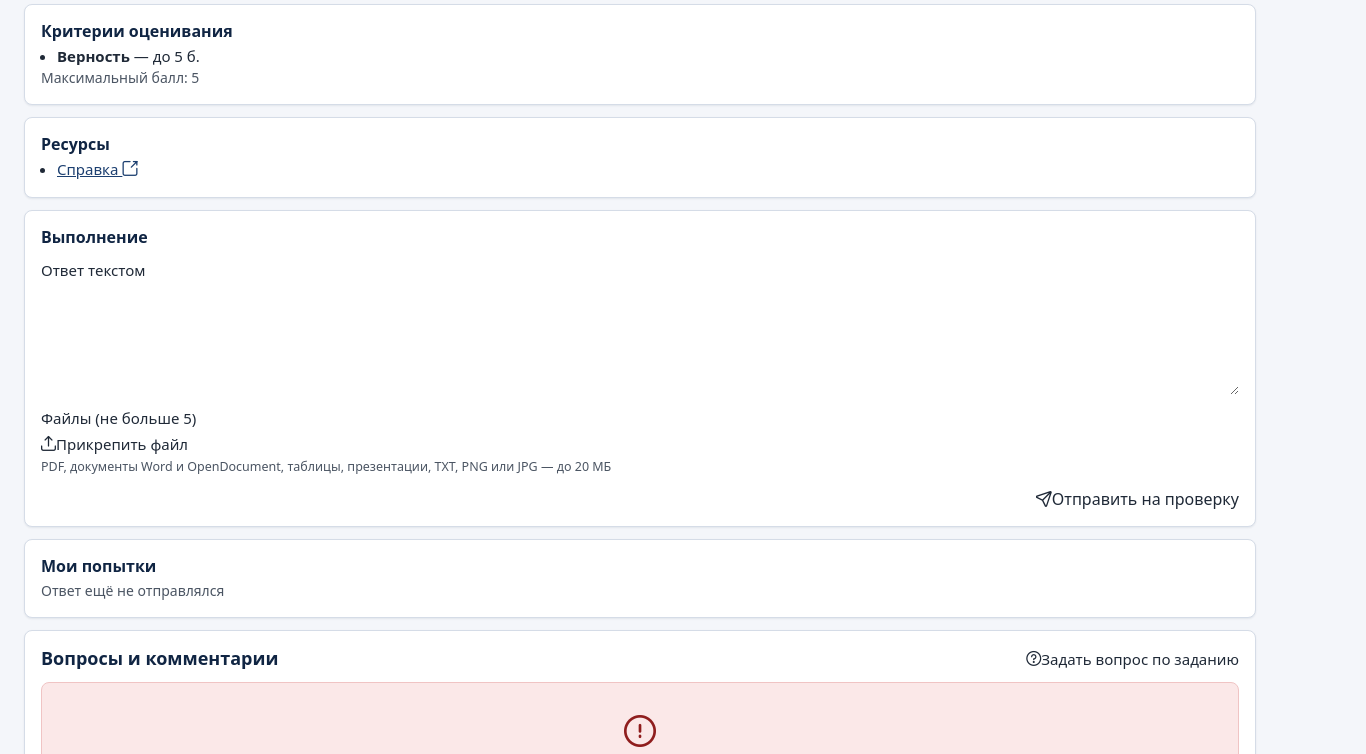
Test: кабинет студента: траектория и задания › UC-04, FR-050: студент отправляет ответ на проверку с ключом повторной отправки
(page scrolled)
Submit the form with class "submission-form", box [41,258,1239,510]
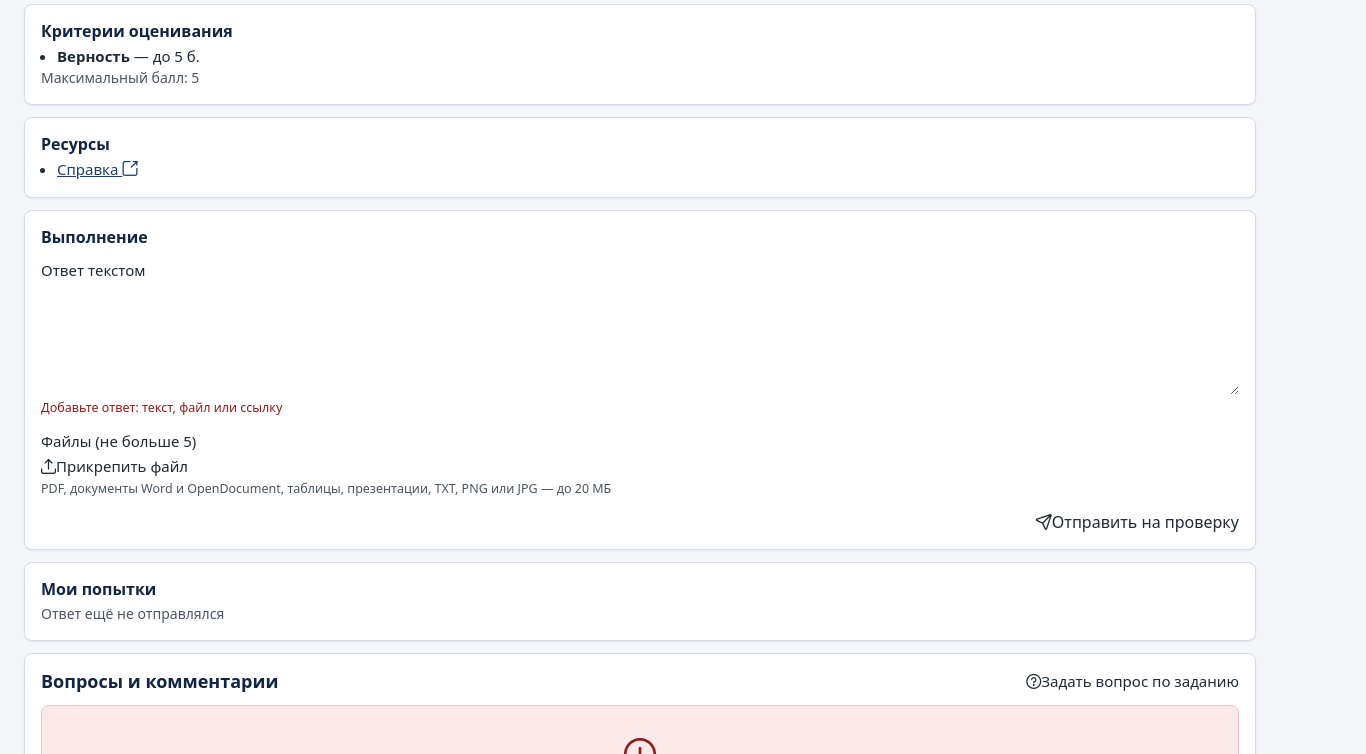
Now the text "Добавьте ответ: текст, файл или ссылку" is shown, box [41,399,282,416]
Type "x = 2" into the text box with id "submission-text" at (640, 340), box [41,285,1239,395]
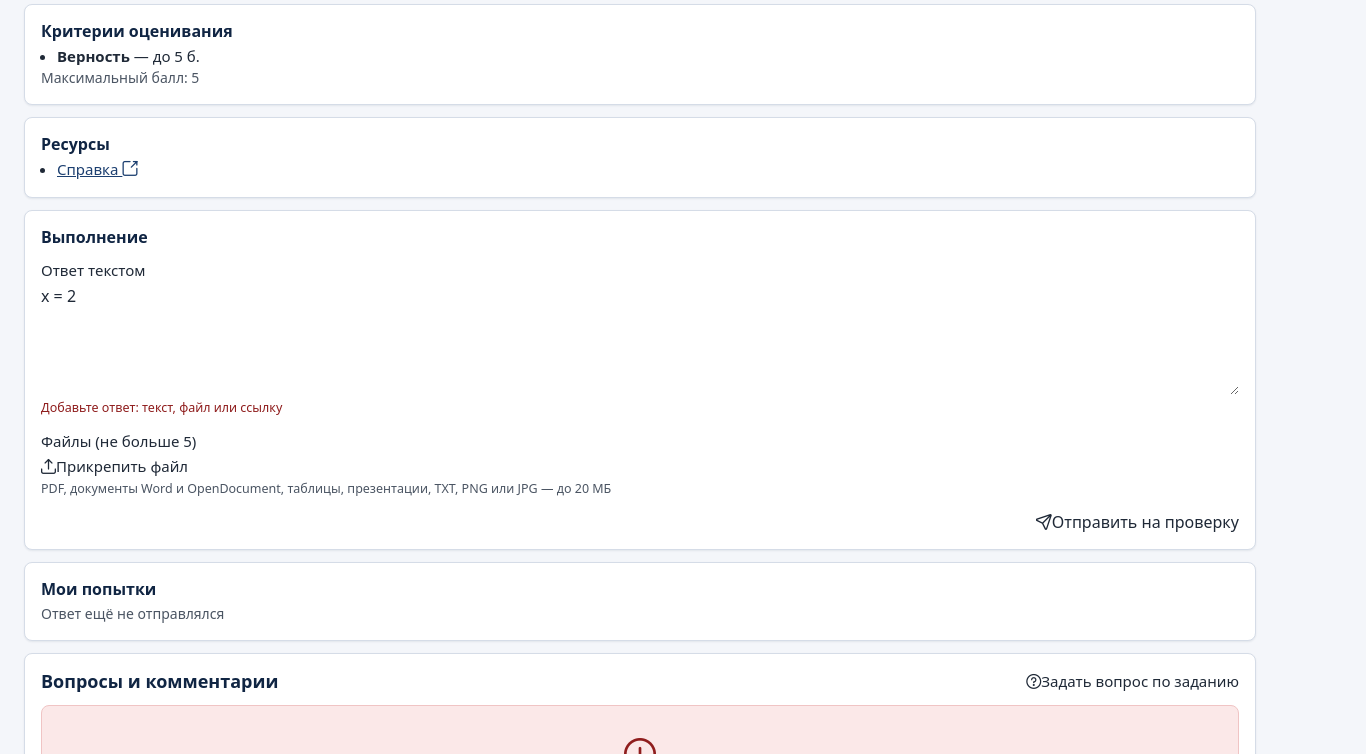
Submit the form with class "submission-form", box [41,258,1239,533]
(page scrolled)
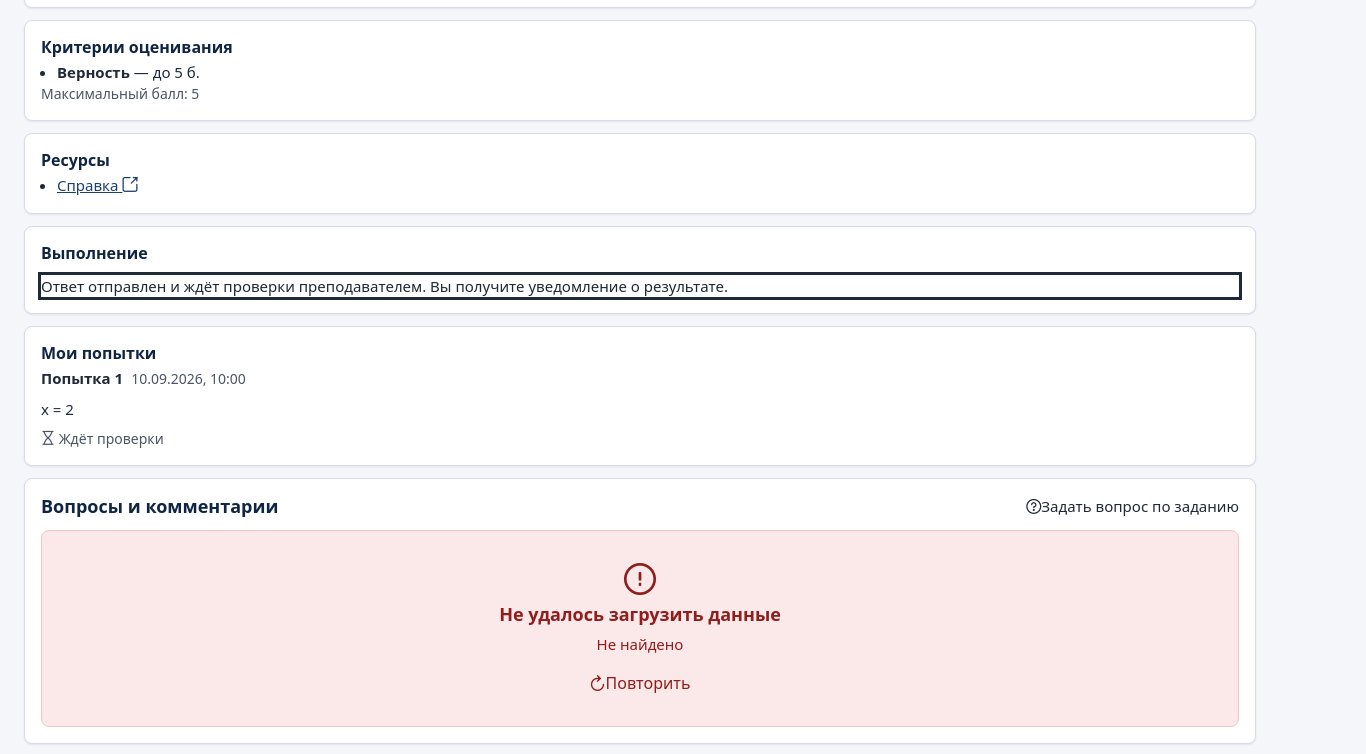
Now the text "Ответ отправлен и ждёт проверки" is shown, box [41,276,728,296]
Now the text "Попытка 1" is shown, box [41,367,123,390]
